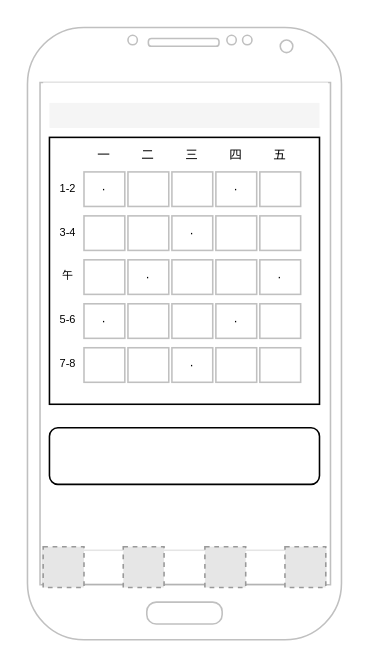
Some shapes in this 371 by 667 pixel diagram are drawn without their labels. Grey dashed boxes stand in for pictures. Each missing label, with the centre of its shape:
保存模板: the point at 183,455
节次模板: the point at 184,114
